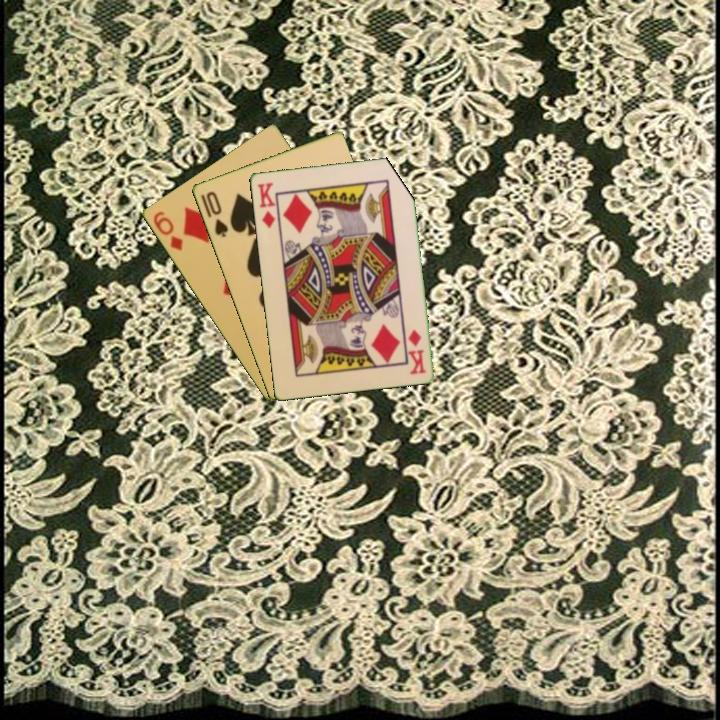10s: (202, 187, 231, 240)
6d: (149, 208, 185, 253)
Kd: (253, 179, 278, 231), (404, 325, 428, 377)
